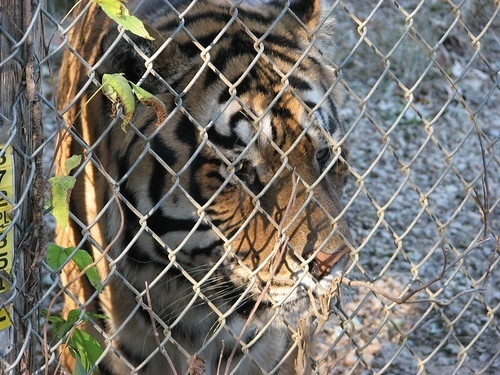tigre: (50, 1, 357, 373)
